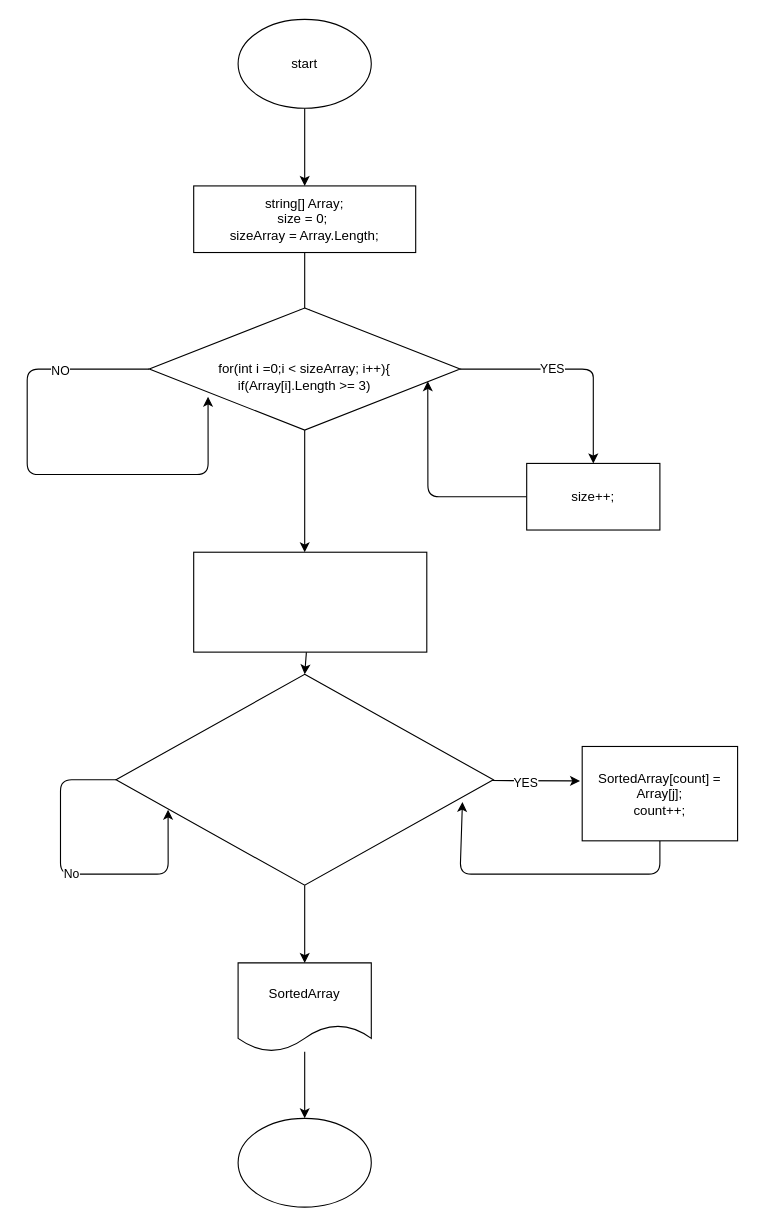
Image size: 757x1227. Some labels were removed from this diagram. The box of each missing label's shape, as (x1, y1, x2, y2) in pixels:
END: (237, 1117, 371, 1207)
for(j =0; j < sizeArray; j++) { if(Array[j].Length <=3)}: (115, 673, 493, 885)
string[] SortedArray = string[size]; count = 0;: (193, 551, 427, 652)
